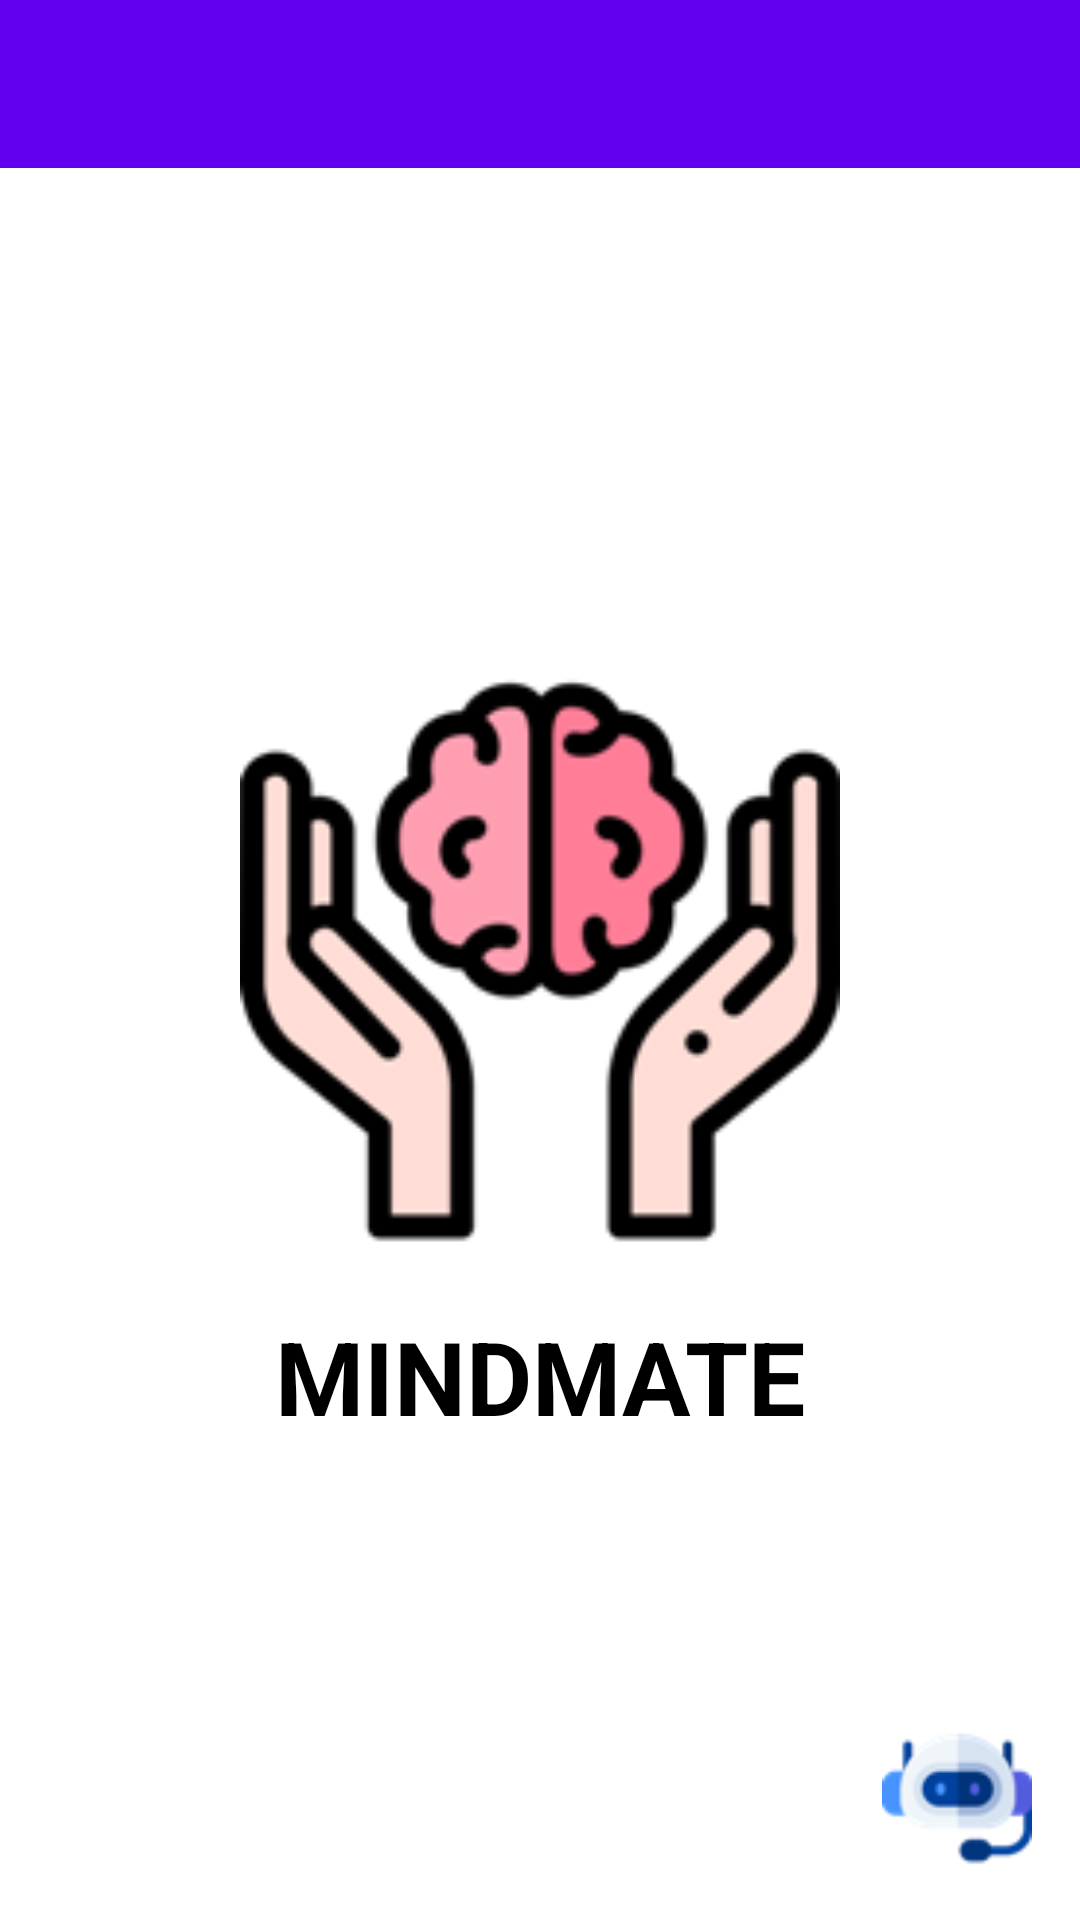

Where icons sit on this 1080px×1920px app screen, as (x1, y1, x2, y2):
chatbot: (882, 1734, 1032, 1864)
